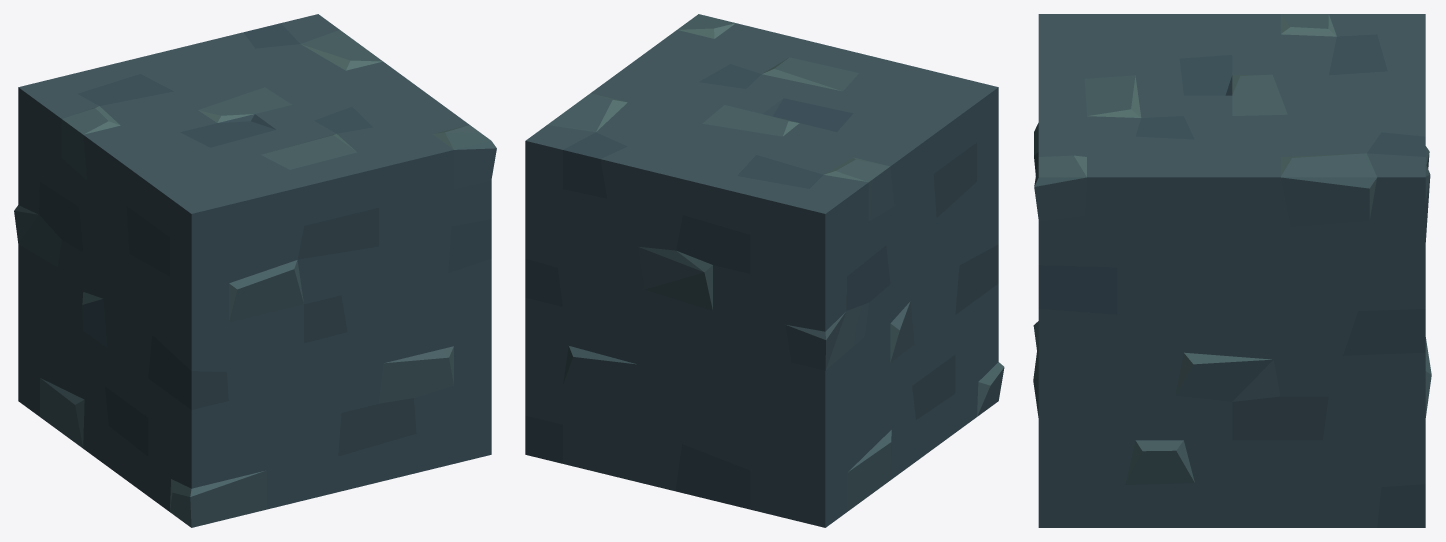
File: backfill_4m.fbx
3 views of the same model, side by side, from view 1: azimuth 30°, elevation 25°; view 2: azimuth 150°, elevation 25°; view 3: azimuth 270°, elevation 25° (orthographic). The views are drawn at different scales.
Visible parts, largest first — view 1: backfill_4m; view 2: backfill_4m; view 3: backfill_4m.
Boxes of the visible parts, x1,y1,x2,y2 form: backfill_4m: (14,14,496,527); backfill_4m: (525,14,1004,527); backfill_4m: (1033,14,1431,527).
Bounding box in the file's own units: 415 × 412 × 412.
